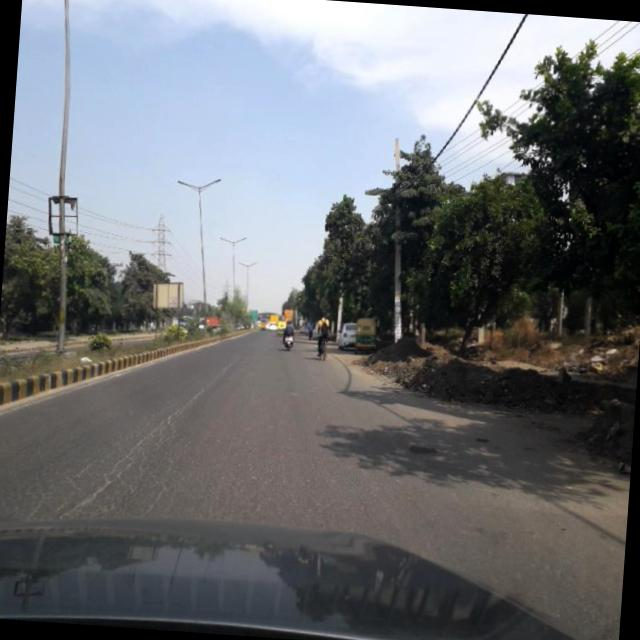crack: (22, 388, 208, 526), (66, 424, 156, 513), (156, 349, 244, 438)
